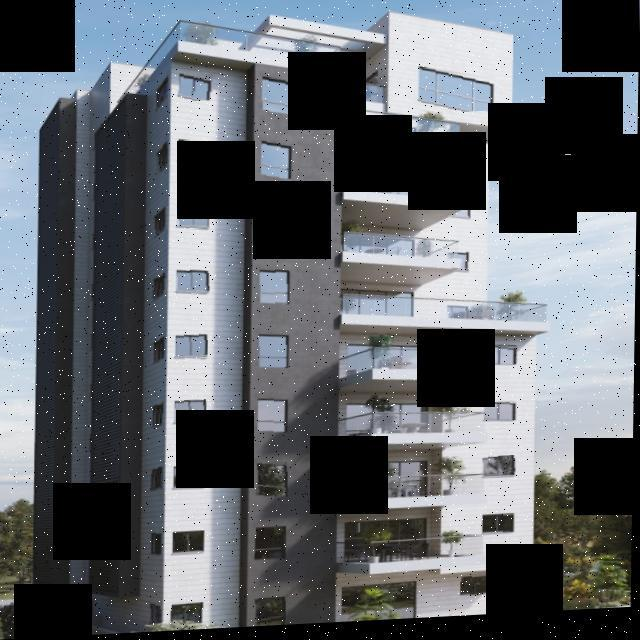Window: (414, 69, 496, 119), (260, 140, 292, 183), (259, 79, 294, 118), (258, 270, 290, 309), (258, 463, 290, 501), (258, 400, 289, 437), (256, 529, 288, 563), (261, 208, 290, 245), (178, 74, 213, 104), (259, 336, 289, 371), (254, 600, 288, 629), (177, 270, 211, 298), (178, 140, 210, 169), (173, 467, 210, 492), (176, 205, 210, 232), (177, 336, 209, 364), (172, 602, 206, 628), (462, 578, 498, 602), (175, 402, 207, 426), (482, 518, 516, 540), (486, 405, 520, 427), (174, 532, 204, 556), (486, 349, 518, 371), (484, 462, 518, 482), (154, 77, 172, 111), (448, 152, 474, 174), (446, 256, 472, 278), (448, 204, 472, 227), (154, 144, 168, 174), (152, 338, 166, 367), (155, 208, 169, 236), (154, 273, 168, 301), (151, 468, 165, 495), (445, 310, 471, 324), (151, 604, 164, 629), (154, 404, 166, 430), (152, 534, 164, 558)
